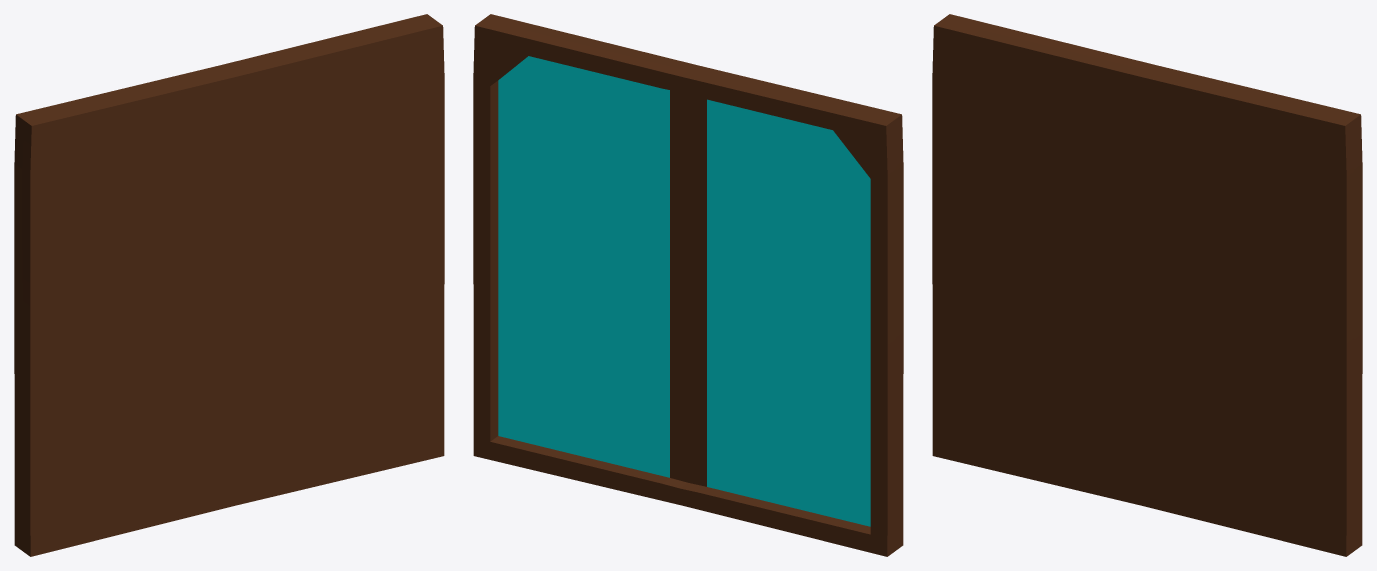
Rendered from MOD_FenetreComplet.FBX.
The picture shows the model from 3 angles, left to right: view 1: azimuth 30°, elevation 25°; view 2: azimuth 150°, elevation 25°; view 3: azimuth 330°, elevation 25°; orthographic projection.
Parts seen in each view (by area): view 1: MOD_Fenetreb; view 2: MOD_Fenetreb; view 3: MOD_Fenetreb.
Part boxes in pixels (<box>): MOD_Fenetreb: <box>14,14,444,556</box>; MOD_Fenetreb: <box>473,14,903,556</box>; MOD_Fenetreb: <box>932,14,1362,556</box>.
Size of the model in its own units: 1.92 by 1.91 by 0.1277.
